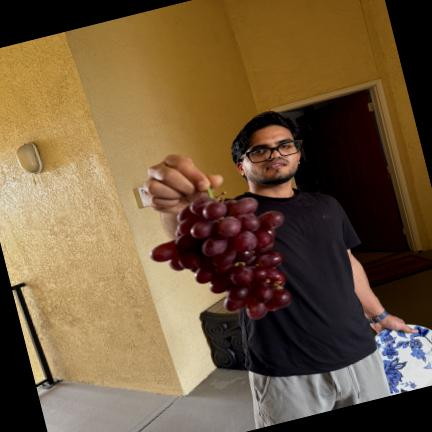grape_cluster: (150, 195, 291, 319), (207, 188, 211, 195)
